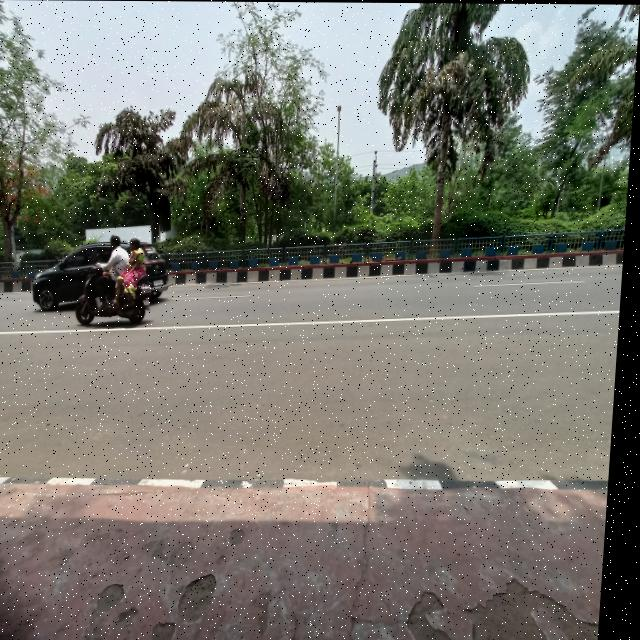bike: (73, 260, 160, 324)
car: (29, 242, 89, 312)
